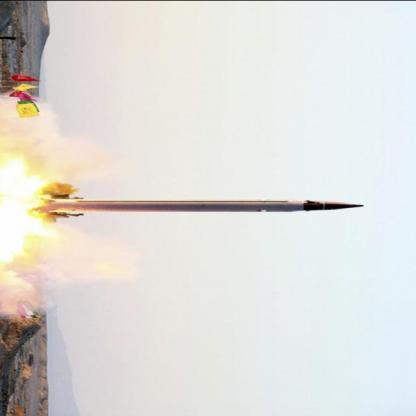MIL_TBM: (34, 198, 368, 214)
